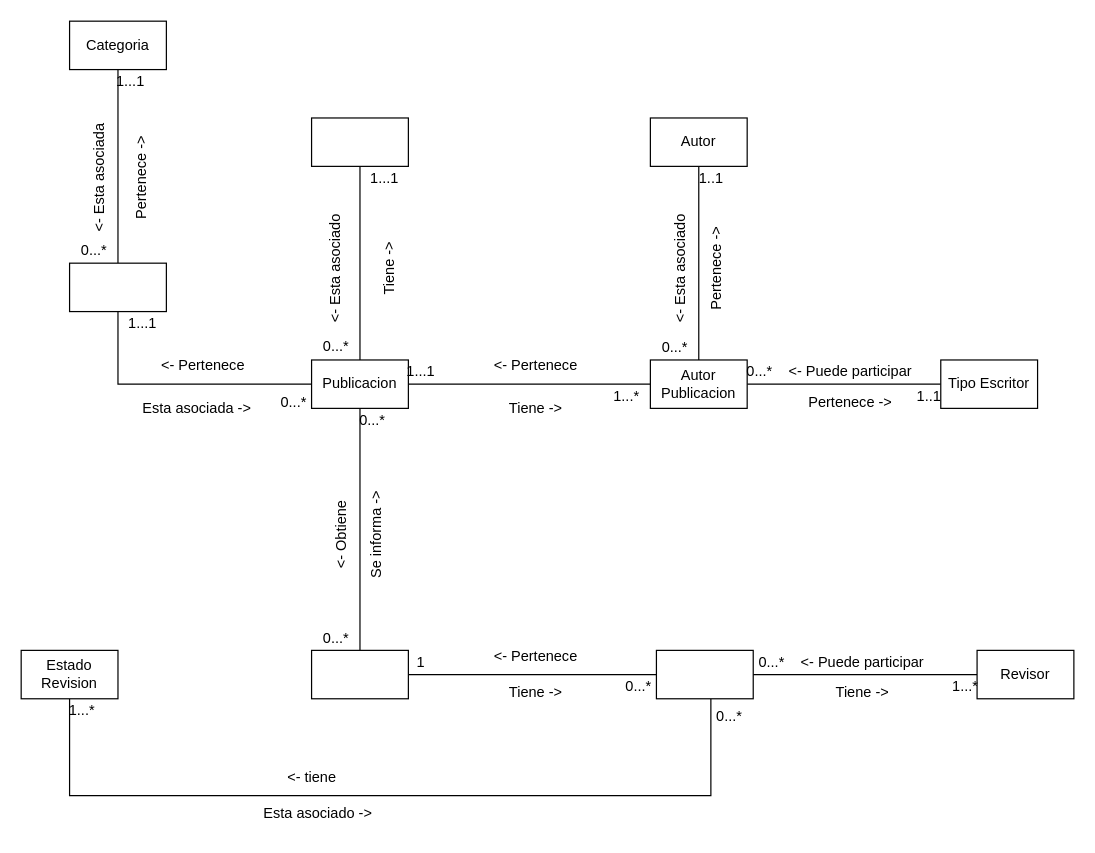
Some shapes in this 1095 by 853 pixel diagram are drawn without their labels. The centre of each missing label's shape, as x and y in pixels:
"Detalle Revision" belongs at (704,674).
"Revision" belongs at (359,674).
"Subcategoría" belongs at (117,287).
"Tipo Acceso" belongs at (359,141).
